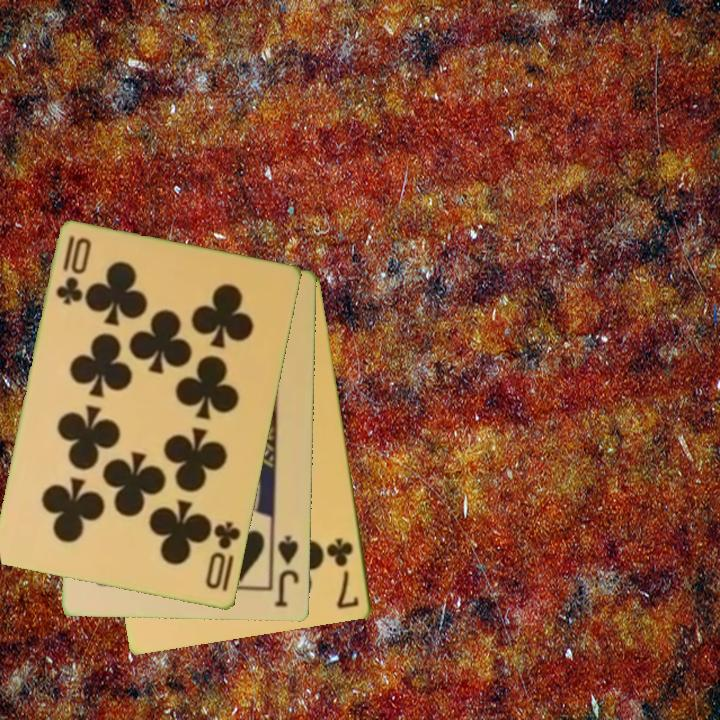10c: (202, 518, 244, 593), (52, 233, 94, 308)
7c: (324, 534, 363, 612)
Js: (272, 532, 302, 610)
